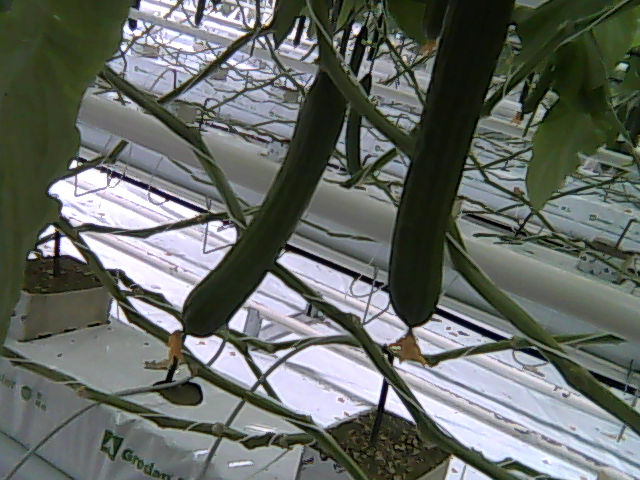concombre: (165, 64, 347, 358), (385, 1, 518, 369)
